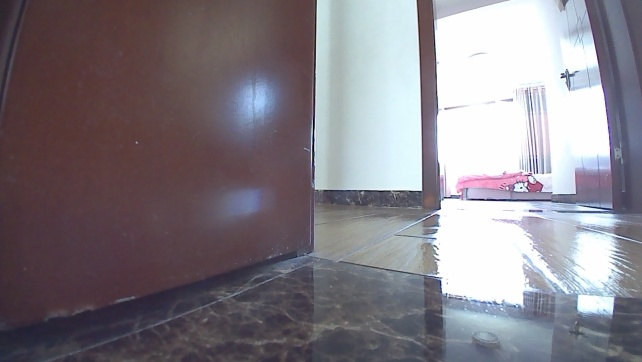bed1: (452, 172, 552, 203)
door_anno: (551, 0, 641, 212)
